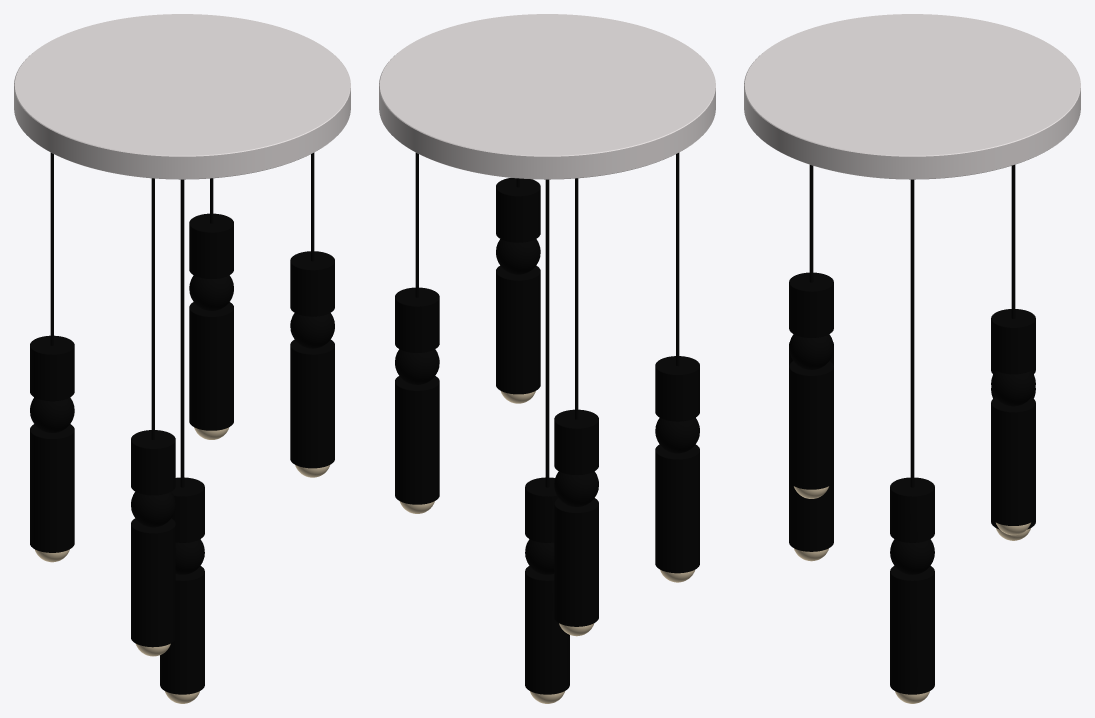
File: lamp2.obj
3 views of the same model, side by side, from view 1: azimuth 30°, elevation 25°; view 2: azimuth 150°, elevation 25°; view 3: azimuth 270°, elevation 25° (orthographic).
Visible parts, largest first — view 1: Lee_Broom_Fulcrum_Chandelier_5_Tier_mat_3_:Lee_Broom_Fulcrum_Cha; view 2: Lee_Broom_Fulcrum_Chandelier_5_Tier_mat_3_:Lee_Broom_Fulcrum_Cha; view 3: Lee_Broom_Fulcrum_Chandelier_5_Tier_mat_3_:Lee_Broom_Fulcrum_Cha.
Boxes of the visible parts, left/top/right/bottom form: Lee_Broom_Fulcrum_Chandelier_5_Tier_mat_3_:Lee_Broom_Fulcrum_Cha: left=14, top=14, right=350, bottom=703; Lee_Broom_Fulcrum_Chandelier_5_Tier_mat_3_:Lee_Broom_Fulcrum_Cha: left=379, top=14, right=715, bottom=703; Lee_Broom_Fulcrum_Chandelier_5_Tier_mat_3_:Lee_Broom_Fulcrum_Cha: left=744, top=14, right=1080, bottom=703.
Size of the model in its own units: 1.18 by 2.39 by 1.18.
